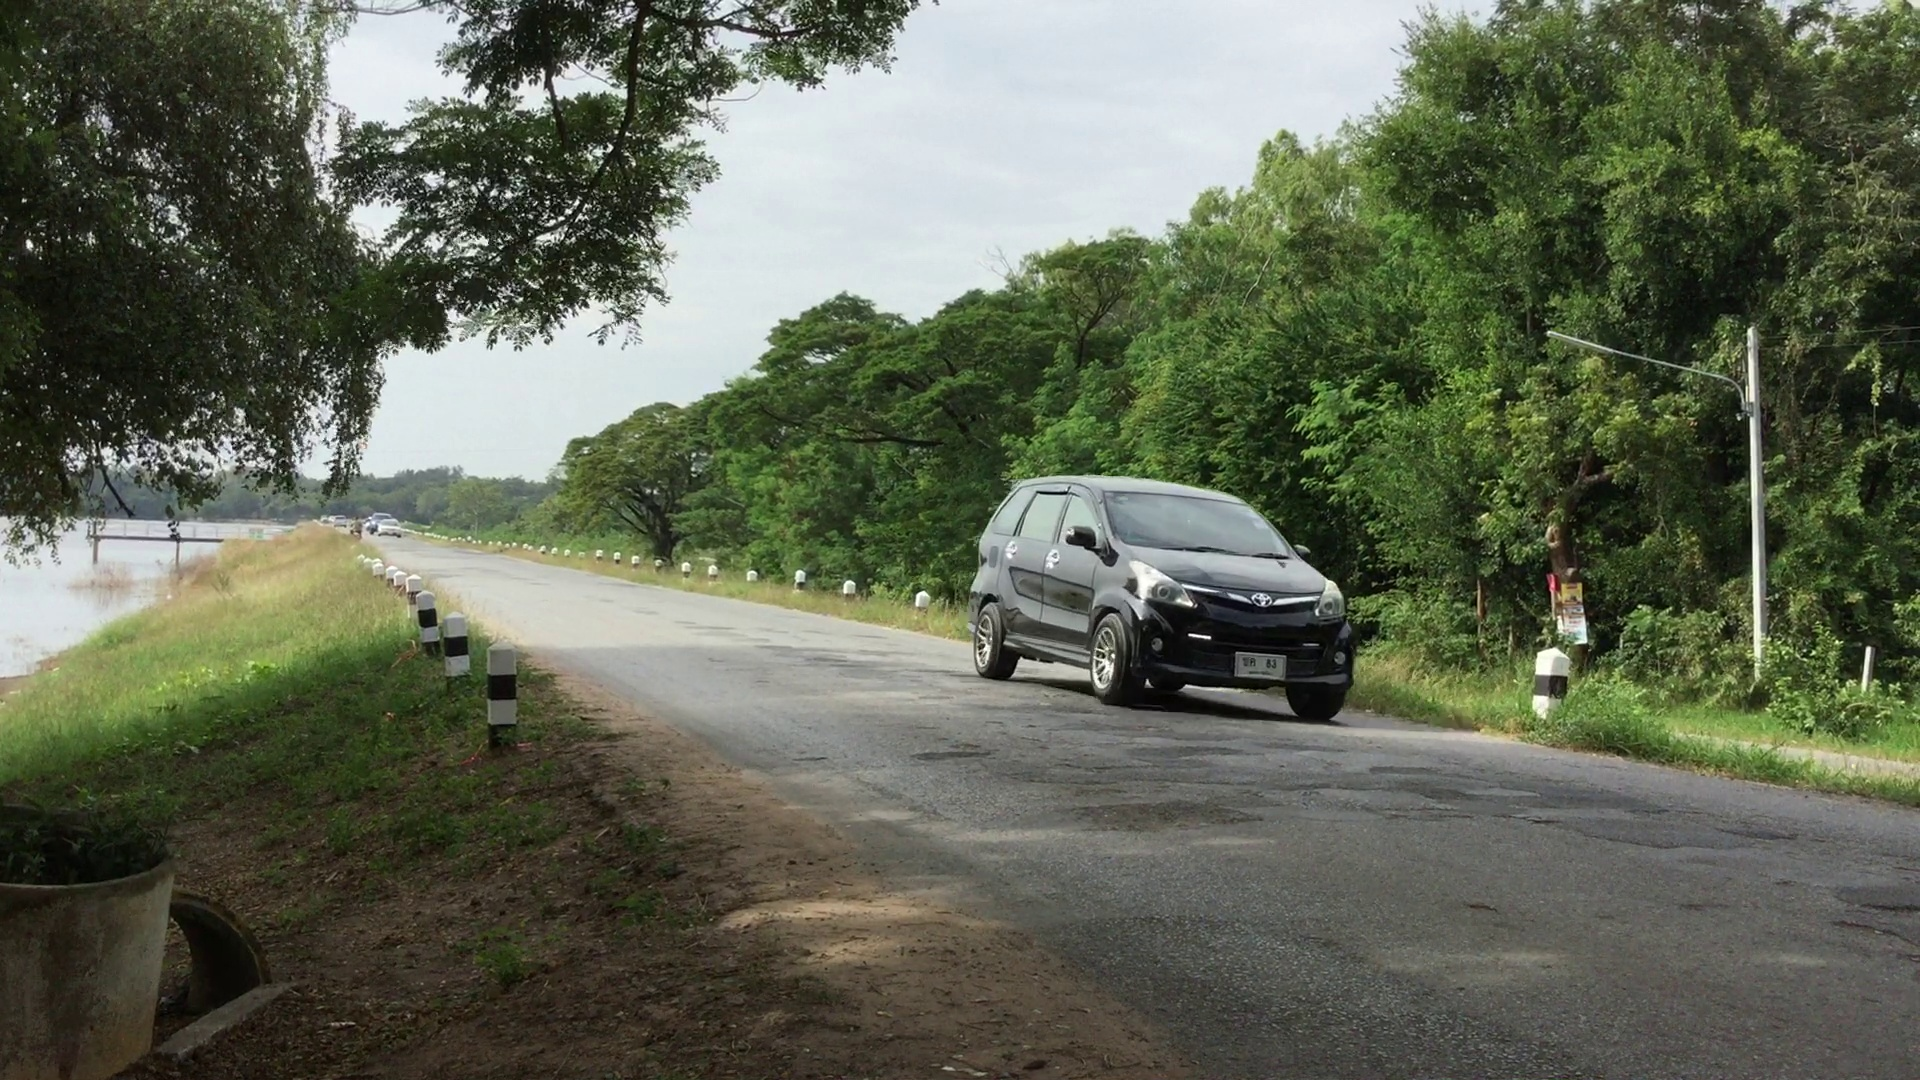car: (973, 468, 1360, 720)
post: (481, 640, 524, 741), (1531, 644, 1573, 717), (438, 609, 475, 680), (415, 591, 440, 651)
